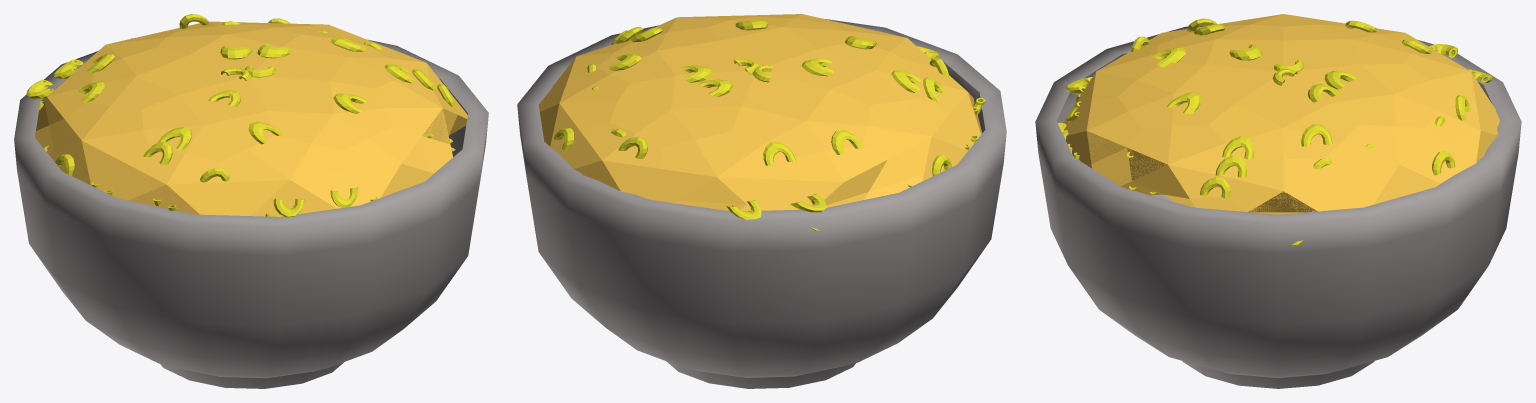
File: macCheese_joined.fbx
3 renders of one model, left to right at view 1: azimuth 30°, elevation 25°; view 2: azimuth 150°, elevation 25°; view 3: azimuth 270°, elevation 25°, orthographic. The views are drawn at different scales.
Visible parts, largest first — view 1: Plane; view 2: Plane; view 3: Plane.
Boxes of the visible parts, x1=… form: Plane: x1=14, y1=14, x2=488, y2=388; Plane: x1=517, y1=14, x2=1006, y2=388; Plane: x1=1035, y1=14, x2=1521, y2=388.
Bounding box in the file's own units: 327 × 207 × 327.
